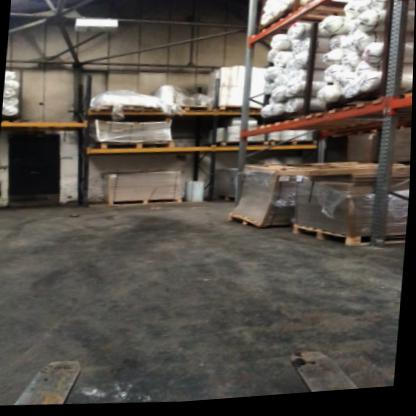vertical_damage: (367, 236, 391, 256)
